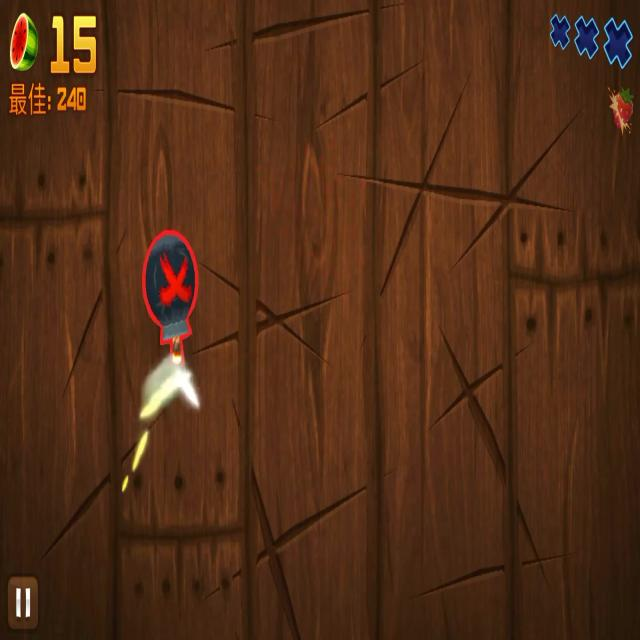bomb: (118, 220, 206, 488)
